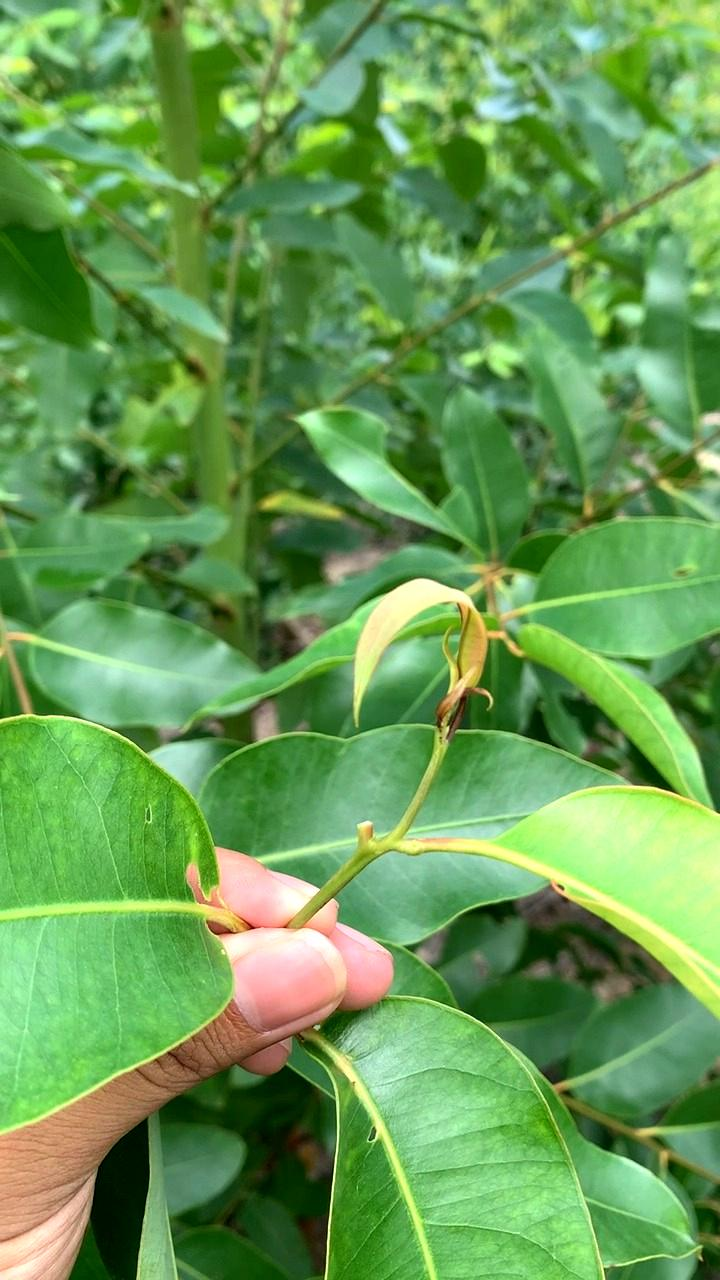Helopeltis-Withered Sprout: (343, 568, 493, 729)
